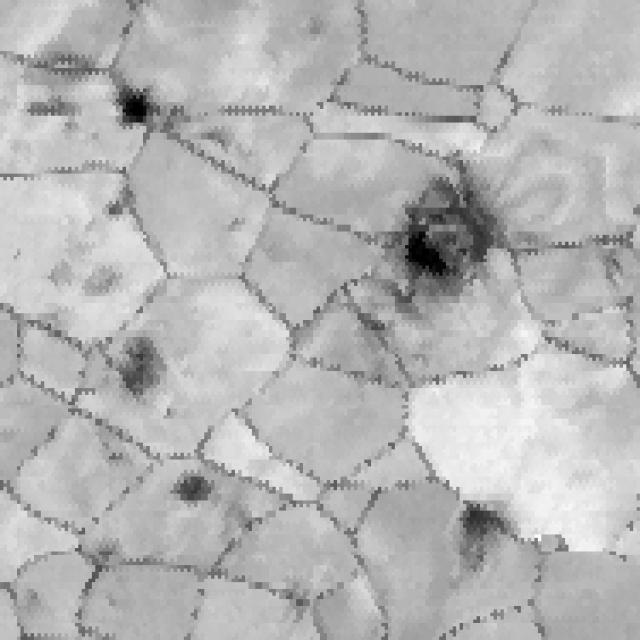good_void: (387, 142, 511, 305), (100, 323, 182, 407), (48, 220, 125, 301), (446, 492, 511, 549), (109, 78, 165, 130), (164, 468, 226, 513), (24, 98, 89, 134), (349, 305, 385, 331), (103, 198, 126, 220), (156, 402, 177, 420), (226, 215, 242, 234), (109, 448, 125, 463)
